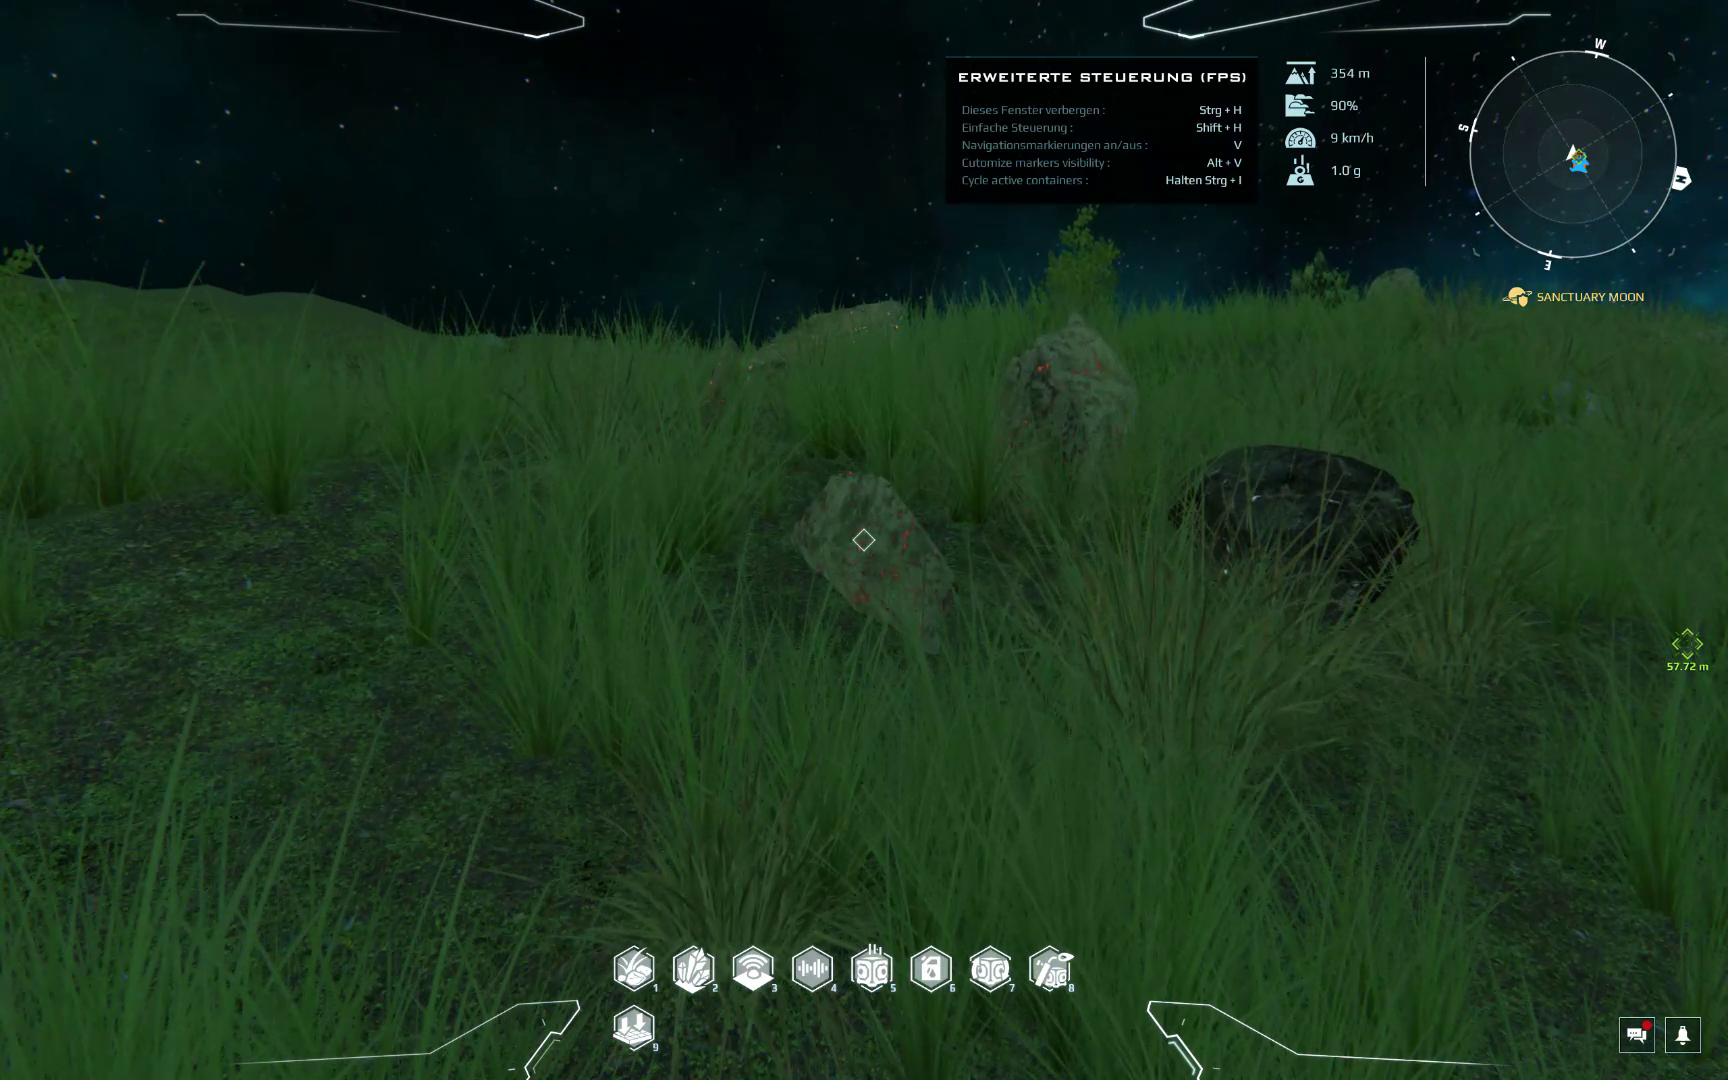Ore: (1174, 445, 1421, 630), (786, 469, 962, 659), (700, 301, 909, 426), (996, 320, 1141, 496)
